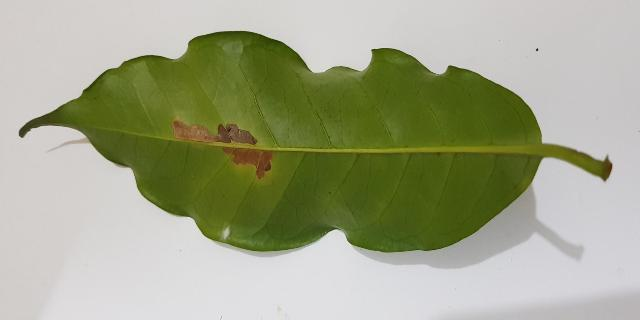cercospora: (172, 119, 273, 179)
